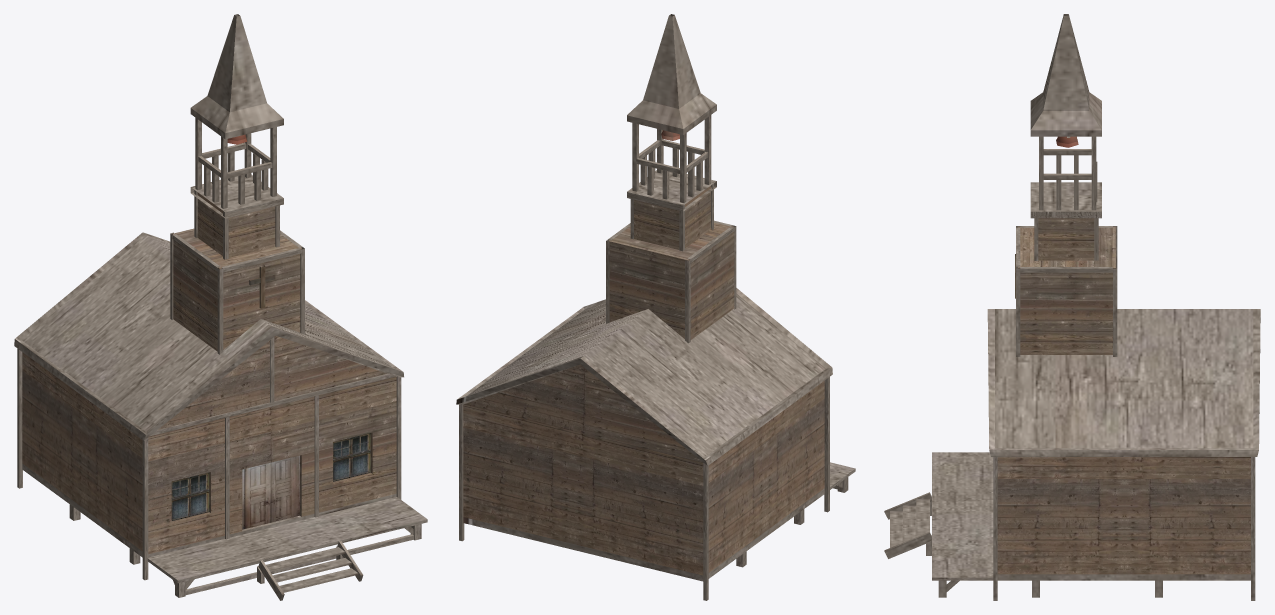
The model's file is church.lod1.glb.
3 views of the same model, side by side, from view 1: azimuth 30°, elevation 25°; view 2: azimuth 150°, elevation 25°; view 3: azimuth 270°, elevation 25° (orthographic). The views are drawn at different scales.
Visible parts, largest first — view 1: Object079_Material #30_0; view 2: Object079_Material #30_0; view 3: Object079_Material #30_0.
Boxes of the visible parts, box(x1,y1,x2,y2) form: Object079_Material #30_0: box(14, 14, 427, 600); Object079_Material #30_0: box(456, 14, 855, 600); Object079_Material #30_0: box(884, 14, 1260, 600).
Bounding box in the file's own units: 8.52 × 16 × 10.38.
Materials: 1 (1 with a texture image).
